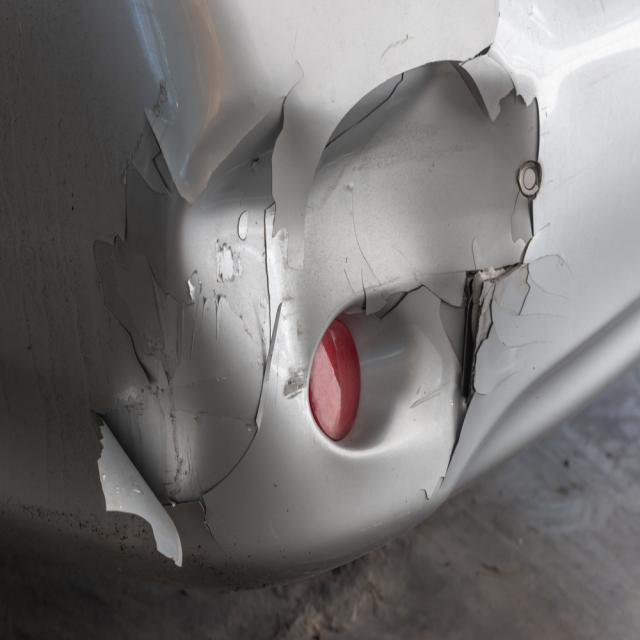crack: (448, 278, 483, 474)
dent: (180, 52, 537, 384)
